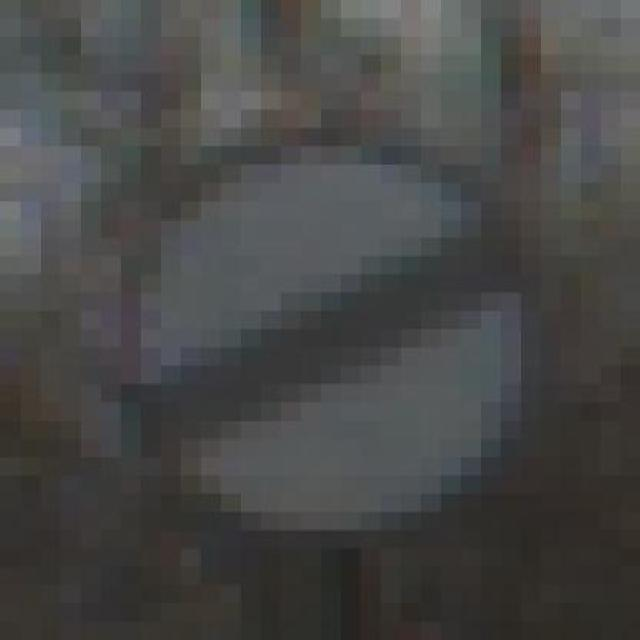End of all speed and passing limits: (100, 91, 560, 567)
